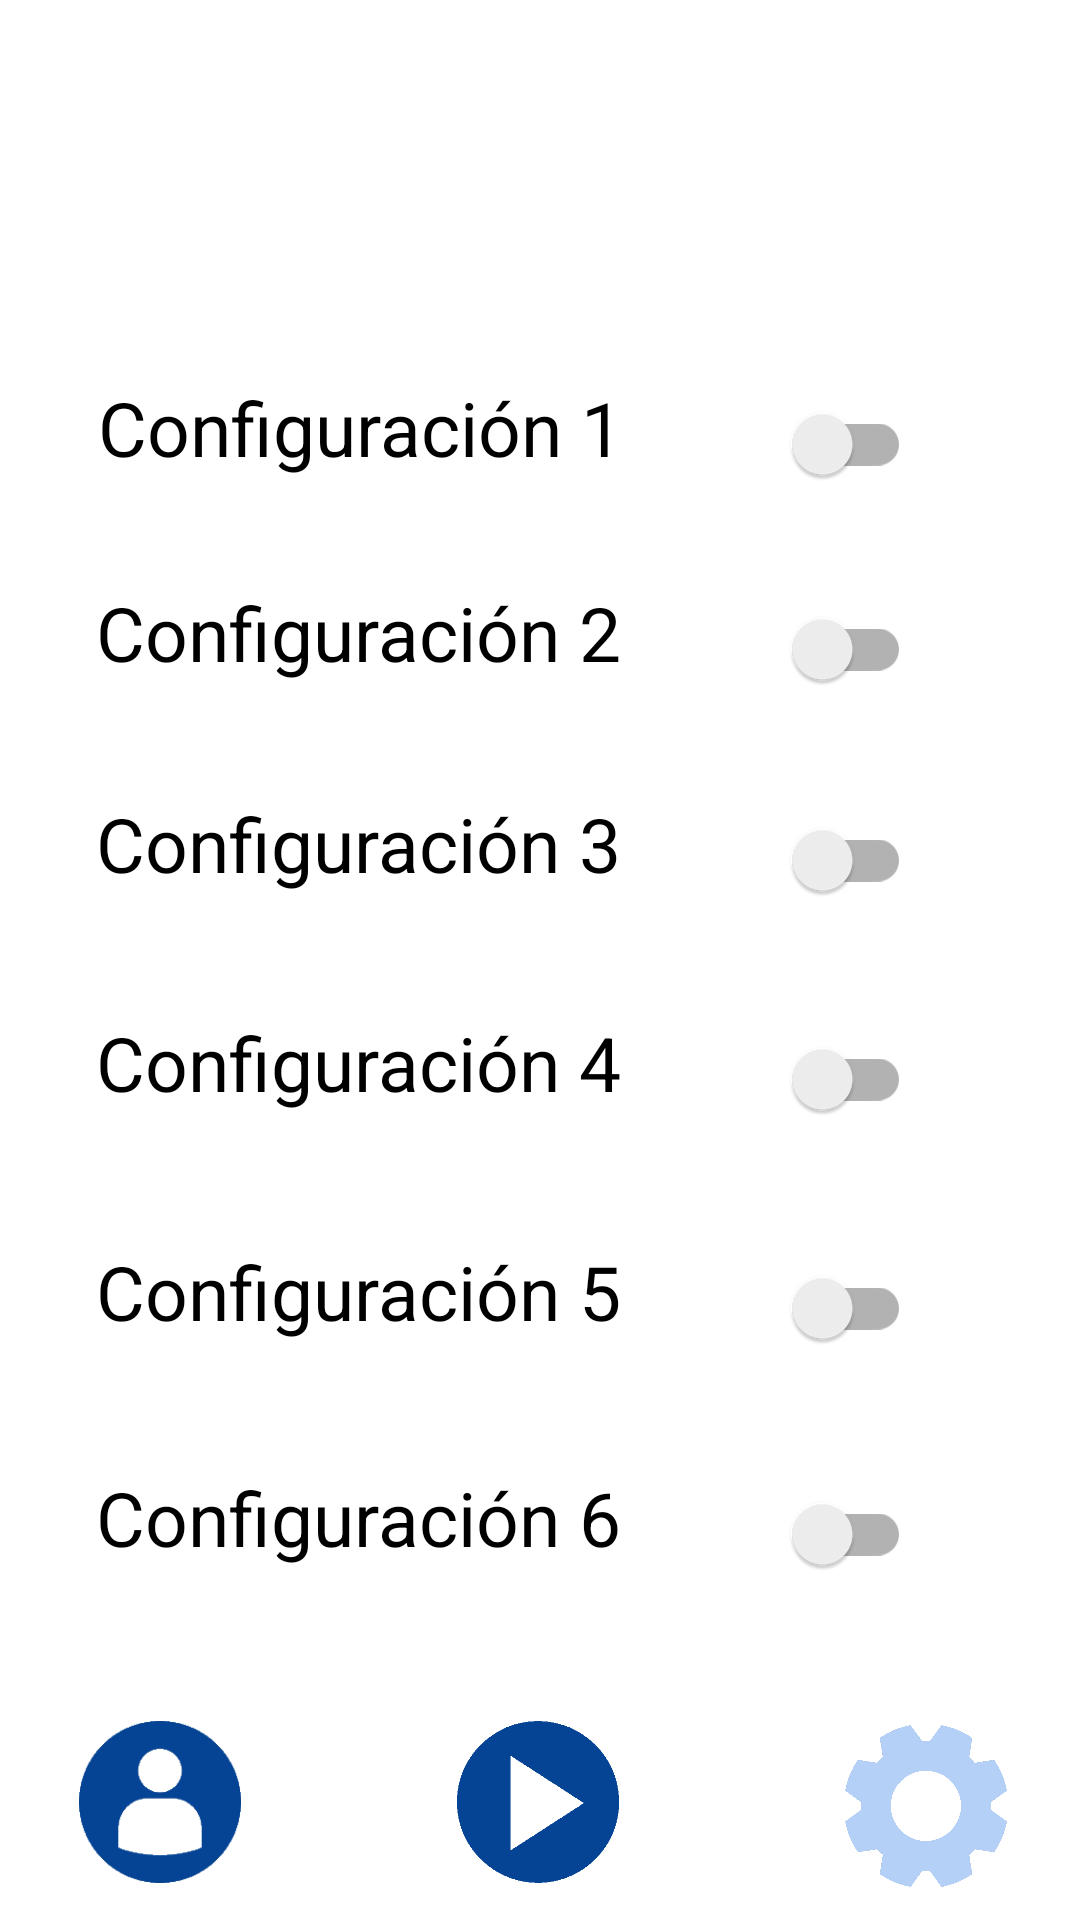

Point at icon controls on the screen. Image size 1080x1920, points as [x,y].
play: [538,1802]
profile: [160,1802]
settings focus: [926,1806]
